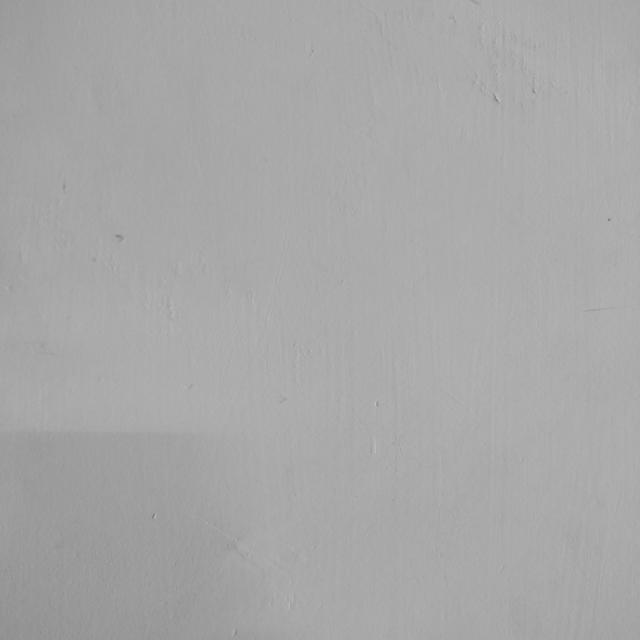rough and patchy surface: (14, 7, 628, 633)
